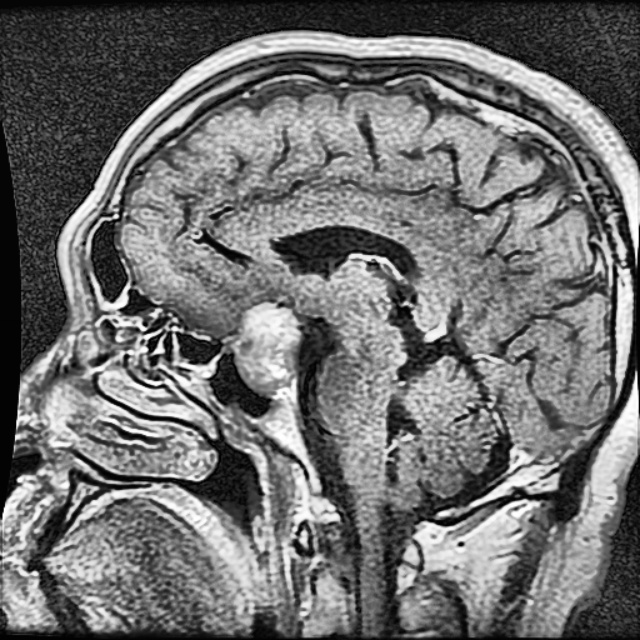Pituitary: (234, 303, 297, 389)
